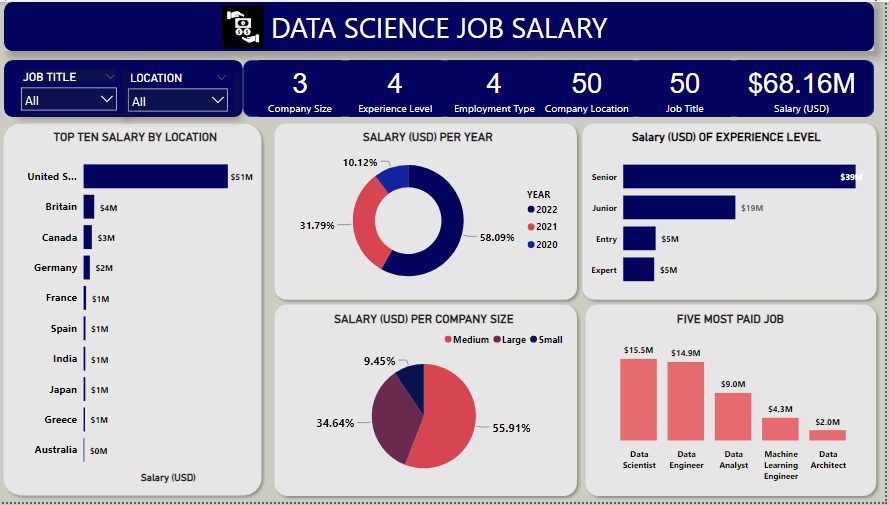

This screenshot's page, from the dashboard's own definition file:
{"tool":"powerbi","page":{"name":"Page 2","canvas":[1280,720],"ordinal":1},"visuals":[{"type":"shape","box":[0,166.3,389.7,554.3],"z":0},{"type":"shape","box":[389.7,426.7,453.5,294],"z":1000},{"type":"shape","box":[389.7,166.3,453.5,272.1],"z":2000},{"type":"shape","box":[833.2,166.3,441.8,272.1],"z":3000},{"type":"shape","box":[838.2,426.7,436.7,294],"z":4000},{"type":"shape","box":[354.4,84,908.8,82.3],"z":5000},{"type":"shape","box":[10.1,83.5,344.2,82.1],"z":6000},{"type":"card","fields":{"Values":["Count(ds_salaries.company_size)"]},"box":[378,84,117.6,82.3],"z":7000},{"type":"slicer","fields":{"Values":["ds_salaries.Company Location"]},"box":[178.6,93.6,164.2,67.7],"z":8000},{"type":"slicer","fields":{"Values":["ds_salaries.job_title"]},"box":[24.5,92.2,158.4,67.7],"z":9000},{"type":"columnChart","title":"FIVE MOST PAID JOB","fields":{"Category":["ds_salaries.job_title"],"Y":["Sum(ds_salaries.Salary (USD))"]},"box":[855,446.8,401.5,252],"z":10000},{"type":"barChart","title":"TOP TEN SALARY BY LOCATION","fields":{"Category":["ds_salaries.Company Location"],"Y":["Sum(ds_salaries.Salary (USD))"]},"box":[25.2,184.8,349.4,514],"z":11000},{"type":"donutChart","title":"SALARY (USD) PER YEAR","fields":{"Y":["Sum(ds_salaries.Salary (USD))"],"Category":["ds_salaries.work_year"]},"box":[416.6,184.8,408.2,241.9],"z":12000},{"type":"barChart","title":"Salary (USD) OF EXPERIENCE LEVEL","fields":{"Category":["ds_salaries.experience_level"],"Y":["Sum(ds_salaries.Salary (USD))"]},"box":[849.6,184.3,401.8,241.9],"z":13000},{"type":"pieChart","title":"SALARY (USD) PER COMPANY SIZE","fields":{"Category":["ds_salaries.company_size"],"Y":["Sum(ds_salaries.Salary (USD))"]},"box":[404.8,446.8,419.9,252],"z":14000},{"type":"card","fields":{"Values":["Count(ds_salaries.experience_level)"]},"box":[507.3,84,132.7,82.3],"z":15000},{"type":"card","fields":{"Values":["Count(ds_salaries.employment_type)"]},"box":[650.1,84,132.7,82.3],"z":16000},{"type":"card","fields":{"Values":["Count(ds_salaries.Company Location)"]},"box":[783.4,83.5,132.5,82.1],"z":17000},{"type":"card","fields":{"Values":["Count(ds_salaries.job_title)"]},"box":[924.5,83.5,132.5,82.1],"z":18000},{"type":"card","fields":{"Values":["Sum(ds_salaries.Salary (USD))"]},"box":[1065,84,186.5,82.3],"z":19000},{"type":"shape","box":[10.1,0,1253.1,70.6],"z":20000},{"type":"image","box":[0,0,416.2,70.6],"z":22001}]}

Visuals, with their boxes in screenshot pixels (x1, y1, x2, y2), scaled from the page's 1280x720 canvas onto the 889x505 screenshot:
shape: [0,117,271,504]
shape: [271,299,586,504]
shape: [271,117,586,307]
shape: [579,117,886,307]
shape: [582,299,885,504]
shape: [246,59,877,117]
shape: [7,59,246,116]
card - Count(ds_salaries.company_size): [263,59,344,117]
slicer - ds_salaries.Company Location: [124,66,238,113]
slicer - ds_salaries.job_title: [17,65,127,112]
"FIVE MOST PAID JOB" columnChart: [594,313,873,490]
"TOP TEN SALARY BY LOCATION" barChart: [18,130,260,490]
"SALARY (USD) PER YEAR" donutChart: [289,130,573,299]
"Salary (USD) OF EXPERIENCE LEVEL" barChart: [590,129,869,299]
"SALARY (USD) PER COMPANY SIZE" pieChart: [281,313,573,490]
card - Count(ds_salaries.experience_level): [352,59,444,117]
card - Count(ds_salaries.employment_type): [452,59,544,117]
card - Count(ds_salaries.Company Location): [544,59,636,116]
card - Count(ds_salaries.job_title): [642,59,734,116]
card - Sum(ds_salaries.Salary (USD)): [740,59,869,117]
shape: [7,0,877,50]
image: [0,0,289,50]
